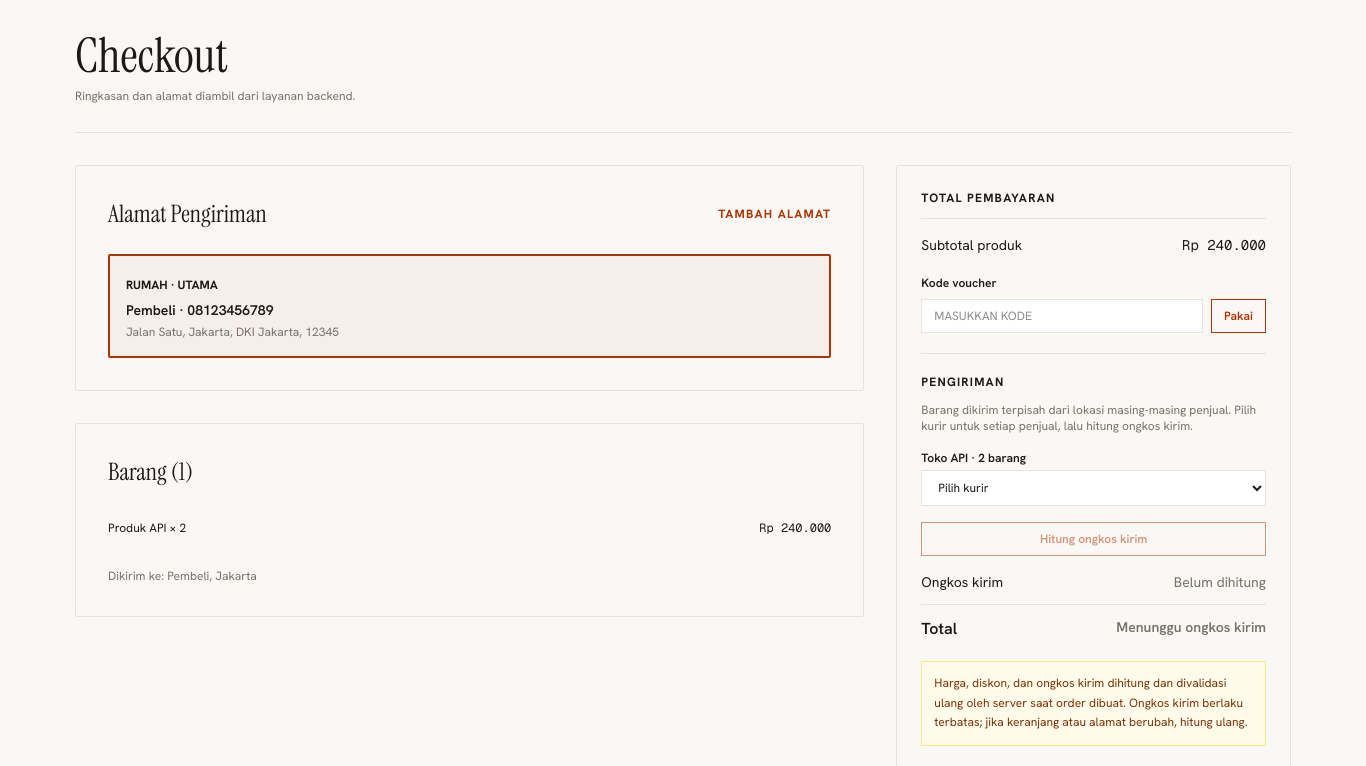
CheckoutPage › explains an unverified seller origin instead of showing a generic failure
Select "JNE — REG" in the dropdown at (1094, 488), box x1=921 y1=470 x2=1266 y2=506
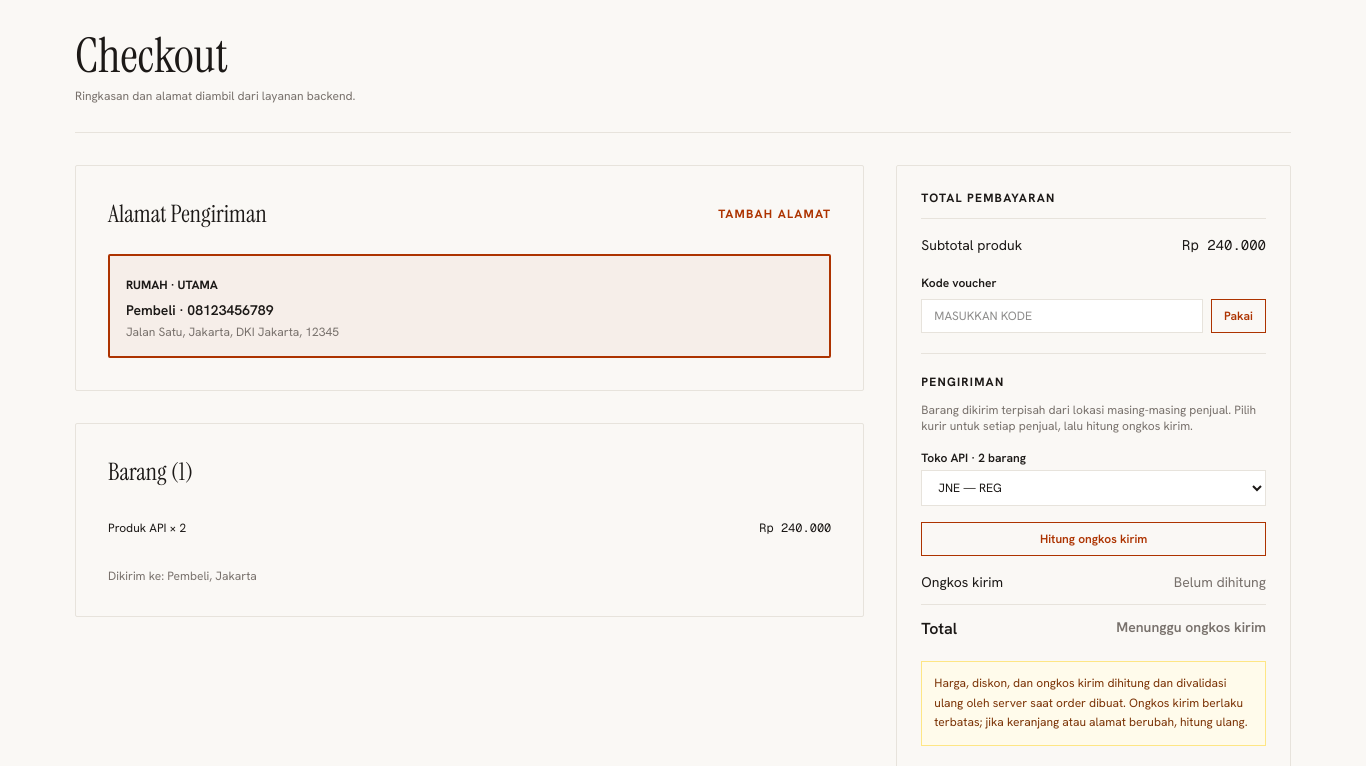
Click the button "Hitung ongkos kirim" at (1094, 539), box x1=921 y1=522 x2=1266 y2=556
(page scrolled)
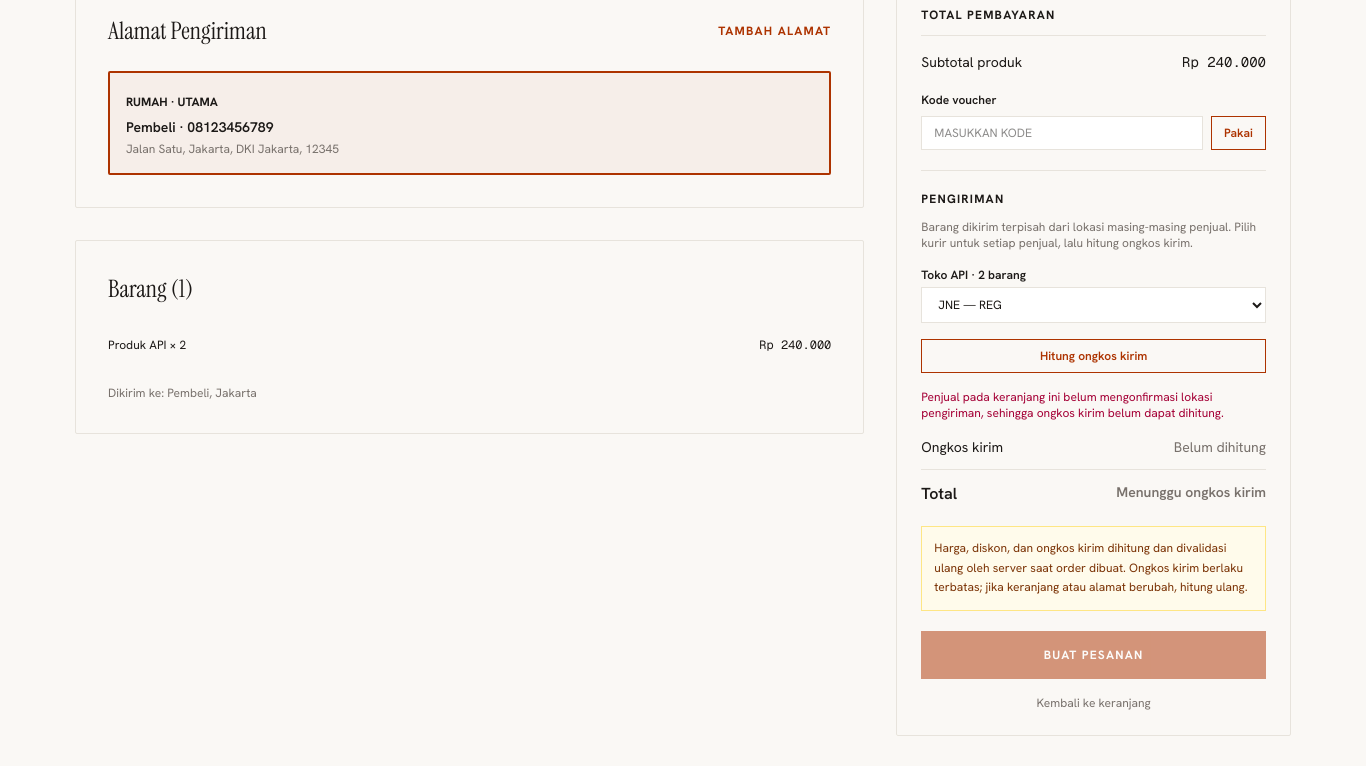
Expected: the button "Buat Pesanan" is disabled, x1=921 y1=630 x2=1266 y2=678
Expected: the text "belum mengonfirmasi lokasi pengiriman" is shown, x1=921 y1=389 x2=1224 y2=421
